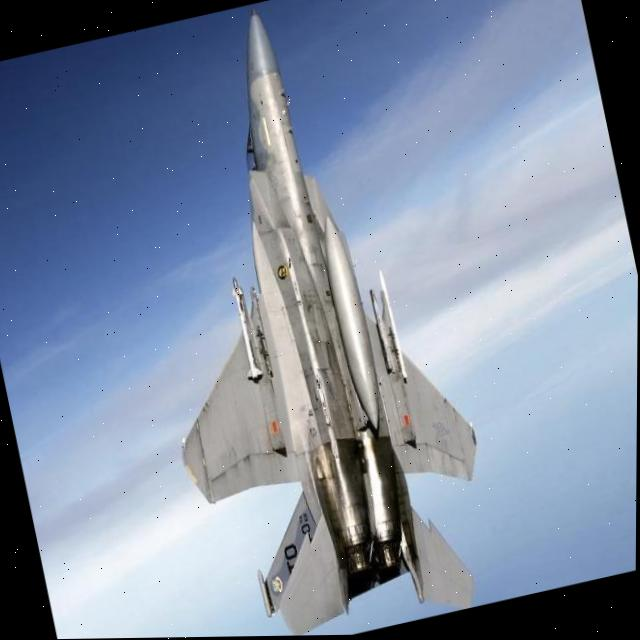missile: (221, 276, 268, 389), (371, 266, 414, 388)
